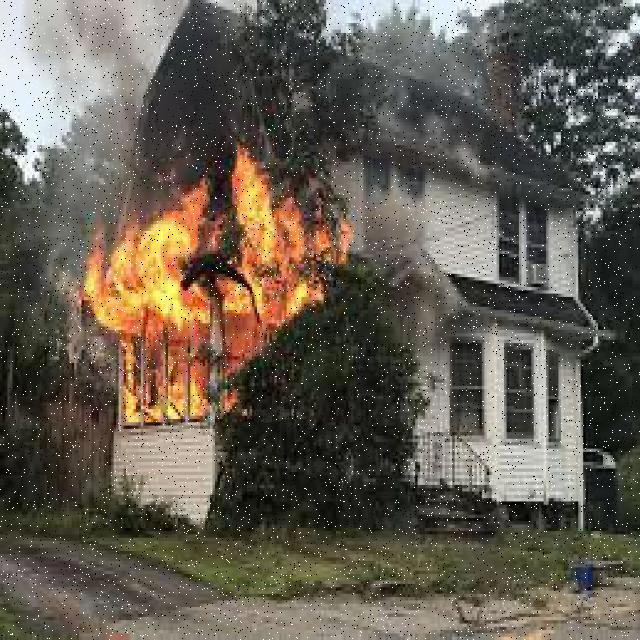fire: (78, 144, 314, 384)
smoke: (55, 11, 167, 136)
